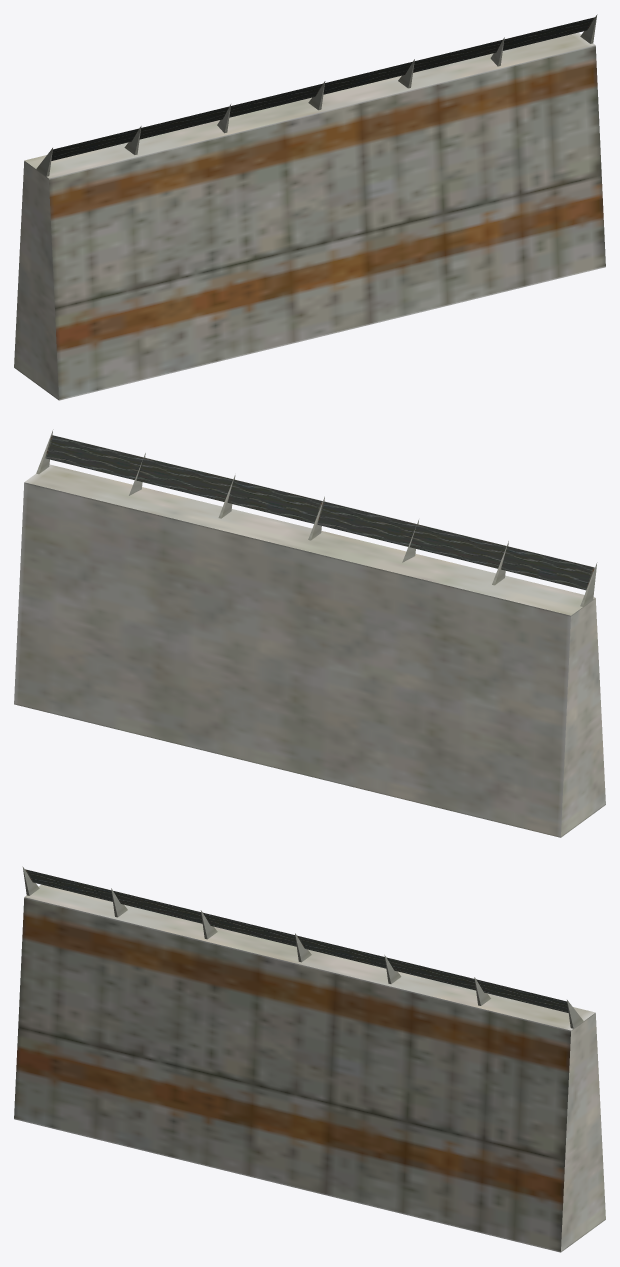
The model's file is mun_all_military_wall_strong_rebl_16_s01_l2.fbx.
3 renders of one model, top to bottom at view 1: azimuth 30°, elevation 25°; view 2: azimuth 150°, elevation 25°; view 3: azimuth 330°, elevation 25°, orthographic.
Parts seen in each view (by area): view 1: mesh_node; view 2: mesh_node; view 3: mesh_node.
Boxes of the visible parts, bbox=[...] form: mesh_node: bbox=[14, 14, 605, 400]; mesh_node: bbox=[14, 429, 605, 837]; mesh_node: bbox=[14, 866, 605, 1252].
Bounding box in the file's own units: 16 × 6.93 × 2.29.
